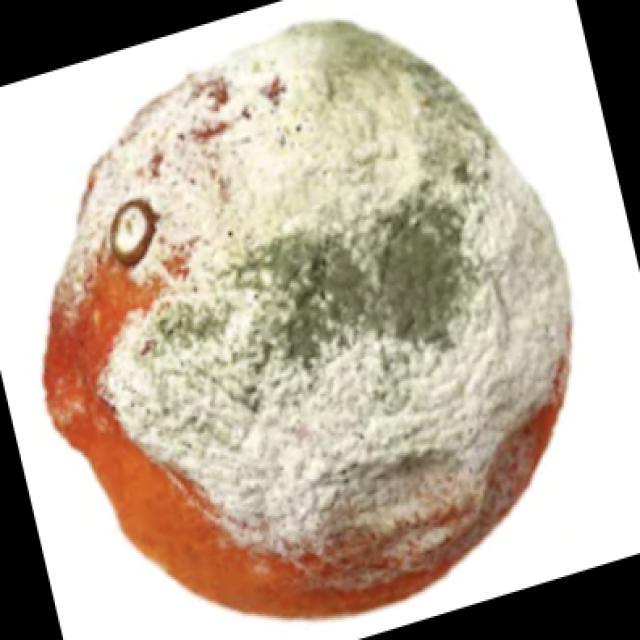sangat-busuk: (44, 21, 571, 616)
